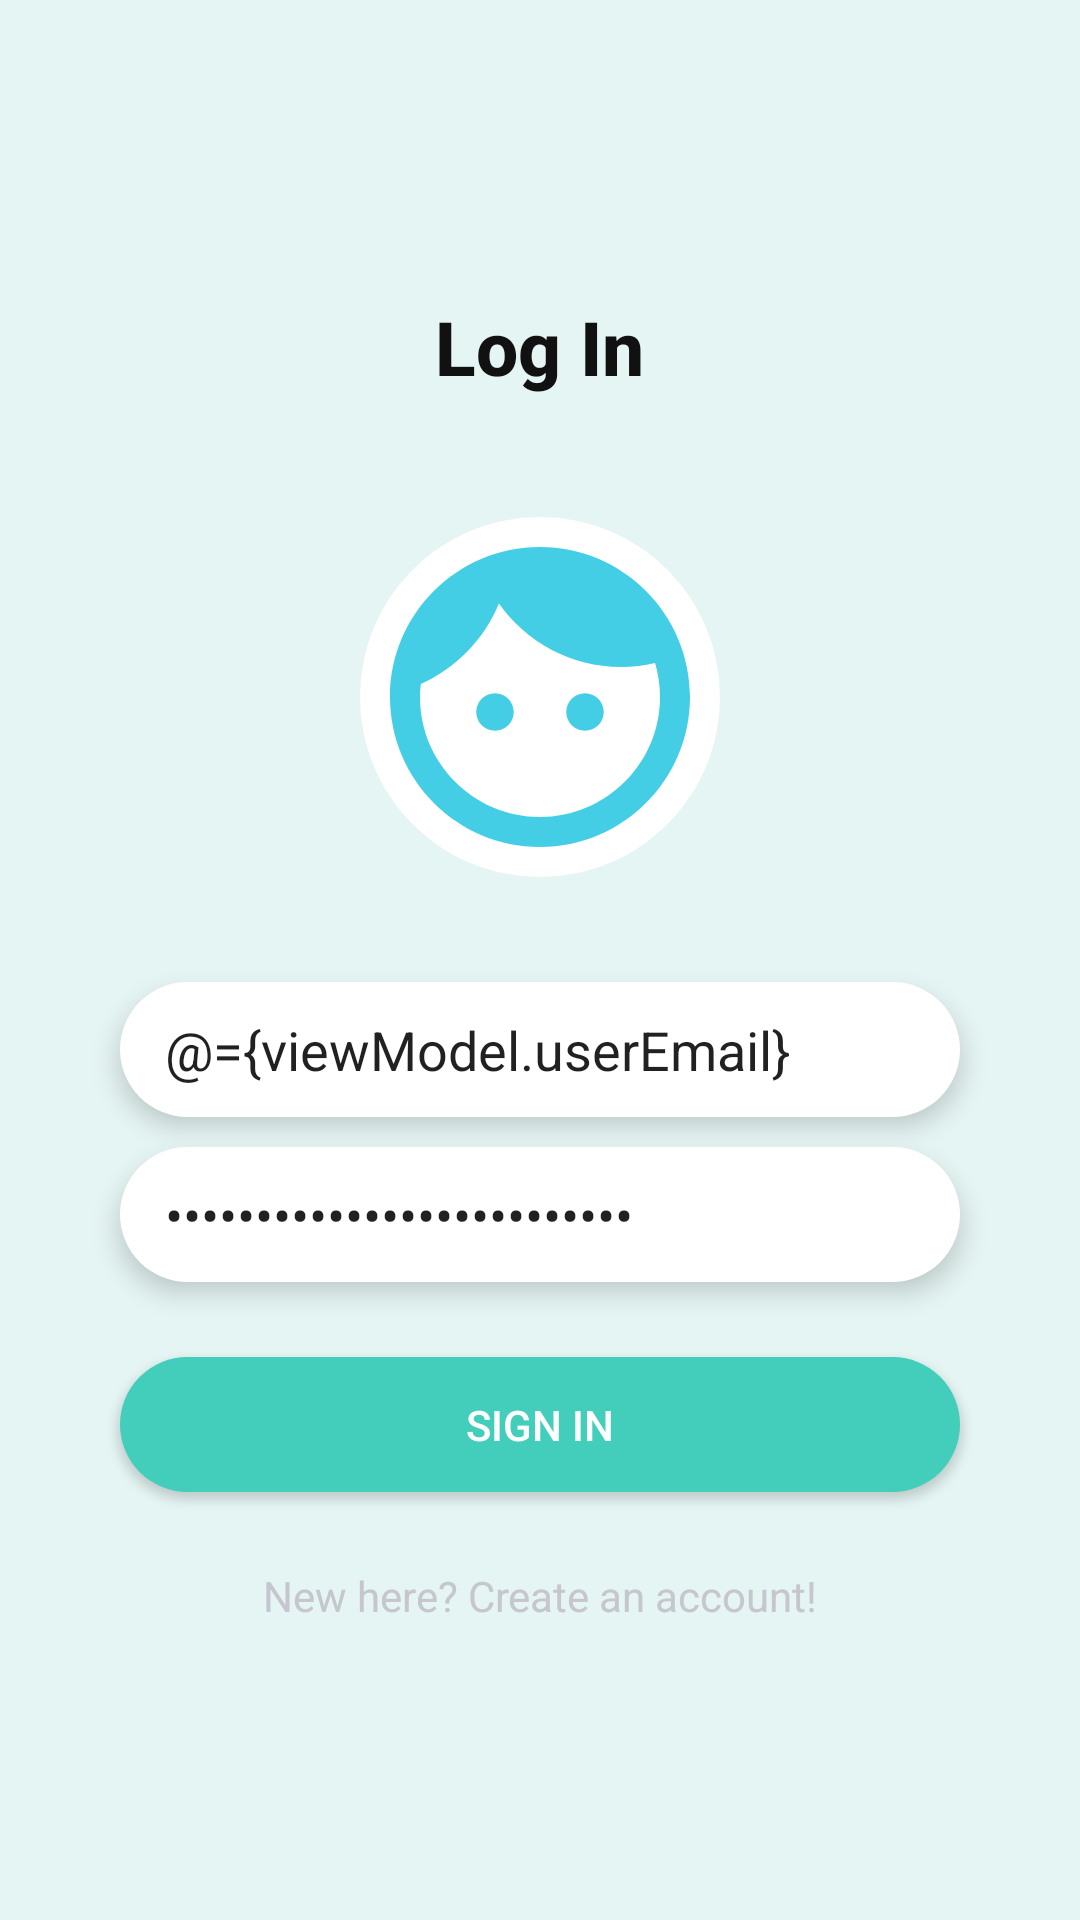

Where to tap for icons on this 1080px x 1920px app screen, as point (x, y):
face: point (540, 697)
